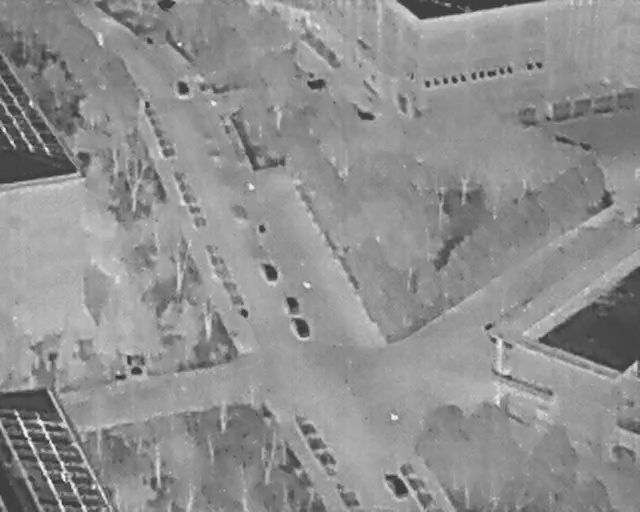Car: (381, 466, 411, 502), (291, 313, 311, 339), (260, 260, 279, 283), (285, 293, 301, 315), (177, 80, 189, 96)
